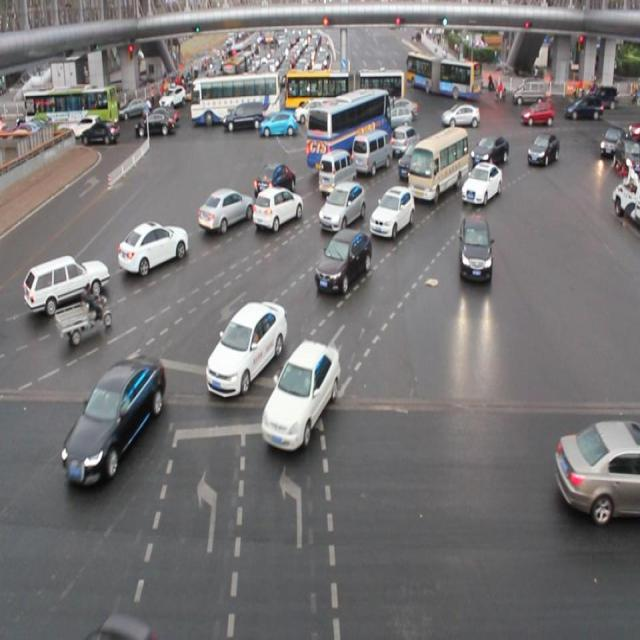car: (58, 356, 166, 483), (554, 418, 640, 531), (266, 342, 342, 452), (205, 300, 288, 399), (23, 253, 109, 317), (117, 221, 189, 276), (314, 229, 370, 297), (196, 186, 254, 234), (458, 211, 493, 286), (254, 183, 304, 233), (319, 182, 366, 233), (369, 186, 414, 236), (459, 158, 500, 204), (254, 162, 296, 203), (469, 135, 508, 170), (526, 128, 559, 168), (390, 125, 419, 161), (395, 146, 427, 178)
truck: (408, 125, 468, 203), (351, 130, 394, 177), (317, 150, 356, 196)
van: (306, 90, 392, 174)
